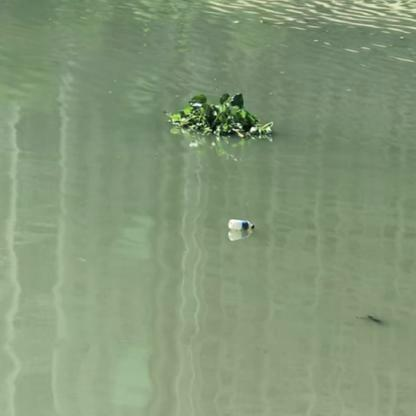Plastic: (224, 216, 257, 235)
